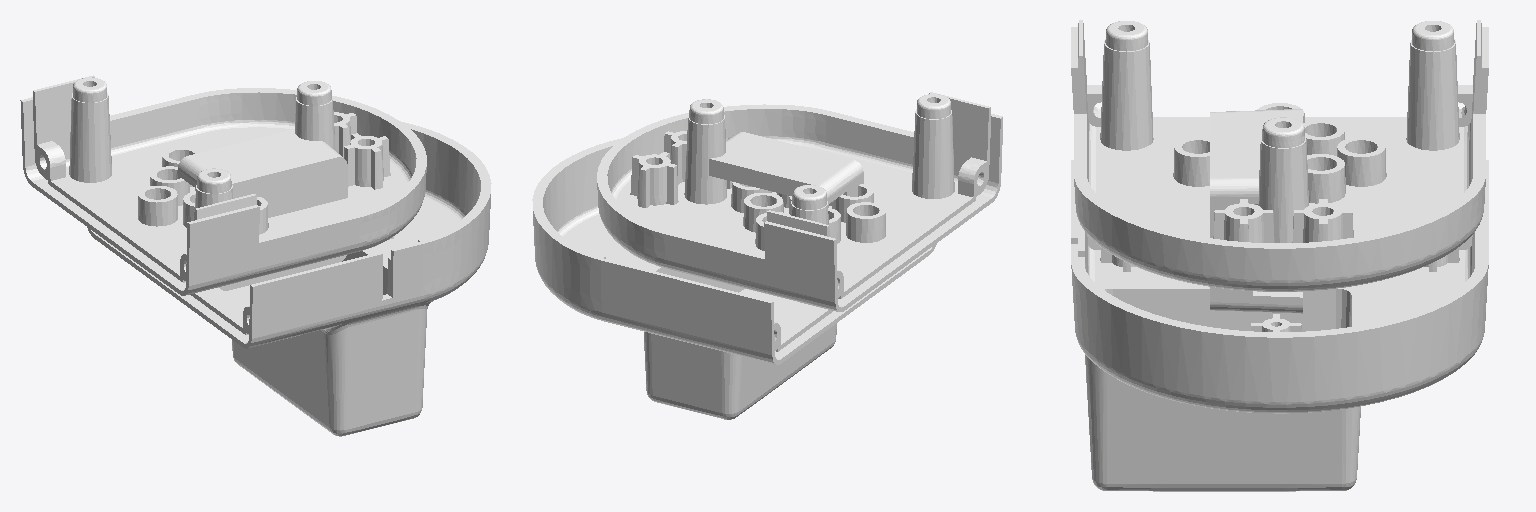
The robot description file, URDF, robot "mycobot":
<?xml version="1.0" ?>
<!-- =================================================================================== -->
<!-- |    This document was autogenerated by xacro from mycobot_with_gripper_parallel.urdf.xacro | -->
<!-- |    EDITING THIS FILE BY HAND IS NOT RECOMMENDED                                 | -->
<!-- =================================================================================== -->
<robot name="mycobot">
  <material name="aluminum">
    <color rgba="0.5 0.5 0.5 1"/>
  </material>
  <material name="plastic">
    <color rgba="0.1 0.1 0.1 1"/>
  </material>
  <!-- camera body, with origin at bottom screw mount -->
  <joint name="camera_joint" type="fixed">
    <origin rpy="0 0 3.141592653589793" xyz="0.68 0.05 0.38"/>
    <parent link="g_base"/>
    <child link="camera_bottom_screw_frame"/>
  </joint>
  <link name="camera_bottom_screw_frame"/>
  <joint name="camera_link_joint" type="fixed">
    <origin rpy="0 0 0" xyz="0.010600000000000002 0.0175 0.0125"/>
    <parent link="camera_bottom_screw_frame"/>
    <child link="camera_link"/>
  </joint>
  <link name="camera_link">
    <visual>
      <!-- the mesh origin is at front plate in between the two infrared camera axes -->
      <origin rpy="1.5707963267948966 0 1.5707963267948966" xyz="0.0043 -0.0175 0"/>
      <geometry>
        <mesh filename="package://realsense2_description/meshes/d435.dae"/>
      </geometry>
    </visual>
    <collision>
      <origin rpy="0 0 0" xyz="0 -0.0175 0"/>
      <geometry>
        <box size="0.02505 0.09 0.025"/>
      </geometry>
    </collision>
    <inertial>
      <!-- The following are not reliable values, and should not be used for modeling -->
      <mass value="0.072"/>
      <origin xyz="0 0 0"/>
      <inertia ixx="0.003881243" ixy="0.0" ixz="0.0" iyy="0.000498940" iyz="0.0" izz="0.003879257"/>
    </inertial>
  </link>
  <link name="g_base">
    <visual>
      <geometry>
        <mesh filename="package://mycobot_description/urdf/mycobot/G_base.dae"/>
      </geometry>
      <origin rpy="0 0 1.5708" xyz="0.0 0 -0.027"/>
    </visual>
    <collision>
      <geometry>
        <mesh filename="package://mycobot_description/urdf/mycobot/G_base.dae"/>
      </geometry>
      <origin rpy="0 0 1.5708" xyz="0.0 0 -0.027"/>
    </collision>
  </link>
  <link name="link1">
    <inertial>
      <origin rpy="0 0 0" xyz="0 0 0.035"/>
      <mass value="10.0"/>
      <inertia ixx="0.010333333333333335" ixy="0" ixz="0" iyy="0.010333333333333335" iyz="0" izz="0.0125"/>
    </inertial>
    <visual>
      <geometry>
        <mesh filename="package://mycobot_description/urdf/mycobot/mesh/link1.dae"/>
      </geometry>
      <origin rpy=" 0 0 -1.5707963267948966" xyz="0.0 0 0 "/>
    </visual>
    <collision>
      <geometry>
        <mesh filename="package://mycobot_description/urdf/mycobot/mesh/link1.dae"/>
      </geometry>
      <origin rpy=" 0 0 -1.5707963267948966" xyz="0.0 0 0 "/>
    </collision>
  </link>
  <link name="link2">
    <inertial>
      <origin rpy="0 0 0" xyz="0 0 0.060"/>
      <mass value="0.2"/>
      <inertia ixx="0.00023166666666666672" ixy="0" ixz="0" iyy="0.00023166666666666672" iyz="0" izz="0.00025000000000000006"/>
    </inertial>
    <visual>
      <geometry>
        <mesh filename="package://mycobot_description/urdf/mycobot/mesh/link2.dae"/>
      </geometry>
      <origin rpy=" 0 0 -1.5707963267948966" xyz="0.0 0 -0.06096 "/>
    </visual>
    <collision>
      <geometry>
        <mesh filename="package://mycobot_description/urdf/mycobot/mesh/link2.dae"/>
      </geometry>
      <origin rpy=" 0 0 -1.5707963267948966" xyz="0.0 0 -0.06096 "/>
    </collision>
  </link>
  <link name="link3">
    <inertial>
      <origin rpy="0 0 0" xyz="0.01 0 0.06"/>
      <mass value="0.4"/>
      <inertia ixx="0.0010508333333333335" ixy="0" ixz="0" iyy="0.0010508333333333335" iyz="0" izz="0.0005000000000000001"/>
    </inertial>
    <visual>
      <geometry>
        <mesh filename="package://mycobot_description/urdf/mycobot/mesh/link3.dae"/>
      </geometry>
      <origin rpy=" 0 -1.5707963267948966 0" xyz="0.0 0 0.03256 "/>
    </visual>
    <collision>
      <geometry>
        <mesh filename="package://mycobot_description/urdf/mycobot/mesh/link3.dae"/>
      </geometry>
      <origin rpy=" 0 -1.5707963267948966 0" xyz="0.0 0 0.03256 "/>
    </collision>
  </link>
  <link name="link4">
    <inertial>
      <origin rpy="0 0 0" xyz="-0.01 0 0.05"/>
      <mass value="0.4"/>
      <inertia ixx="0.0010508333333333335" ixy="0" ixz="0" iyy="0.0010508333333333335" iyz="0" izz="0.0005000000000000001"/>
    </inertial>
    <visual>
      <geometry>
        <!--- 0.0 0 -0.04 -->
        <mesh filename="package://mycobot_description/urdf/mycobot/mesh/link4.dae"/>
      </geometry>
      <origin rpy=" 0 -1.5707963267948966 0" xyz="0.0 0 0.03056 "/>
    </visual>
    <collision>
      <geometry>
        <!--- 0.0 0 -0.04 -->
        <mesh filename="package://mycobot_description/urdf/mycobot/mesh/link4.dae"/>
      </geometry>
      <origin rpy=" 0 -1.5707963267948966 0" xyz="0.0 0 0.03056 "/>
    </collision>
  </link>
  <link name="link5">
    <inertial>
      <origin rpy="0 0 0" xyz="0 0 0.05"/>
      <mass value="0.2"/>
      <inertia ixx="0.00016666666666666672" ixy="0" ixz="0" iyy="0.00016666666666666672" iyz="0" izz="0.00025000000000000006"/>
    </inertial>
    <visual>
      <geometry>
        <!--- 0.0 0 -0.04 -->
        <mesh filename="package://mycobot_description/urdf/mycobot/mesh/link5.dae"/>
      </geometry>
      <origin rpy=" -1.5707963267948966 0 0" xyz="0.0 0 -0.03356 "/>
    </visual>
    <collision>
      <geometry>
        <!--- 0.0 0 -0.04 -->
        <mesh filename="package://mycobot_description/urdf/mycobot/mesh/link5.dae"/>
      </geometry>
      <origin rpy=" -1.5707963267948966 0 0" xyz="0.0 0 -0.03356 "/>
    </collision>
  </link>
  <link name="link6">
    <inertial>
      <origin rpy="0 0 0" xyz="0 0 0.037"/>
      <mass value="0.5"/>
      <inertia ixx="0.0004625000000000001" ixy="0" ixz="0" iyy="0.0004625000000000001" iyz="0" izz="0.0006250000000000001"/>
    </inertial>
    <visual>
      <geometry>
        <!--- 0.0 0 -0.04 -->
        <mesh filename="package://mycobot_description/urdf/mycobot/mesh/link6.dae"/>
      </geometry>
      <origin rpy=" 0 0 0" xyz="0 0.00 -0.038 "/>
    </visual>
    <collision>
      <geometry>
        <!--- 0.0 0 -0.04 -->
        <mesh filename="package://mycobot_description/urdf/mycobot/mesh/link6.dae"/>
      </geometry>
      <origin rpy=" 0 0 0" xyz="0 0.00 -0.038 "/>
    </collision>
  </link>
  <link name="link7">
    <inertial>
      <origin rpy="1.570795 0 0" xyz="0 0.0025 0"/>
      <mass value="0.1"/>
      <inertia ixx="1.0208333333333334e-05" ixy="0" ixz="0" iyy="1.0208333333333334e-05" iyz="0" izz="2e-05"/>
    </inertial>
    <visual>
      <geometry>
        <!--- 0.0 0 -0.04 -->
        <mesh filename="package://mycobot_description/urdf/mycobot/mesh/link7.dae"/>
      </geometry>
      <origin rpy=" 0 0 0" xyz="0.0 0 -0.012 "/>
    </visual>
    <collision>
      <geometry>
        <!--- 0.0 0 -0.04 -->
        <mesh filename="package://mycobot_description/urdf/mycobot/mesh/link7.dae"/>
      </geometry>
      <origin rpy=" 0 0 0" xyz="0.0 0 -0.012 "/>
    </collision>
  </link>
  <joint name="joint1" type="revolute">
    <axis xyz="0 0 1"/>
    <limit effort="10.0" lower="-3.141592653589793" upper="3.141592653589793" velocity="1.0"/>
    <parent link="link1"/>
    <child link="link2"/>
    <origin rpy="0 0 0" xyz="0 0 0.13156"/>
    <dynamics damping="1.0e-6" friction="2.0e-1"/>
  </joint>
  <joint name="joint2" type="revolute">
    <axis xyz="0 0 1"/>
    <limit effort="10.0" lower="-3.141592653589793" upper="3.141592653589793" velocity="1.0"/>
    <parent link="link2"/>
    <child link="link3"/>
    <origin rpy="0 1.5707963267948966 -1.5707963267948966" xyz="0 0  0"/>
    <dynamics damping="1.0e-6" friction="2.0e-1"/>
  </joint>
  <joint name="joint3" type="revolute">
    <axis xyz=" 0 0 1"/>
    <limit effort="10.0" lower="-3.141592653589793" upper="3.141592653589793" velocity="1.0"/>
    <parent link="link3"/>
    <child link="link4"/>
    <origin rpy="0 0 0" xyz="-0.1104 0 0   "/>
    <dynamics damping="1.0e-6" friction="2.0e-1"/>
  </joint>
  <joint name="joint4" type="revolute">
    <axis xyz=" 0 0 1"/>
    <limit effort="10.0" lower="-3.141592653589793" upper="3.141592653589793" velocity="1.0"/>
    <parent link="link4"/>
    <child link="link5"/>
    <origin rpy="0 0 -1.5707963267948966" xyz="-0.096 0 0.06462"/>
    <dynamics damping="1.0e-6" friction="2.0e-1"/>
  </joint>
  <joint name="joint5" type="revolute">
    <axis xyz="0 0 1"/>
    <limit effort="10.0" lower="-3.141592653589793" upper="3.141592653589793" velocity="1.0"/>
    <parent link="link5"/>
    <child link="link6"/>
    <origin rpy="1.5707963267948966 -1.5707963267948966 0" xyz="0 -0.07318 0"/>
    <dynamics damping="1.0e-6" friction="2.0e-1"/>
  </joint>
  <joint name="joint6" type="revolute">
    <axis xyz="0 0 1"/>
    <limit effort="10.0" lower="-3.141592653589793" upper="3.141592653589793" velocity="1.0"/>
    <parent link="link6"/>
    <child link="link7"/>
    <origin rpy="-1.5707963267948966 0 0" xyz="0 0.0456 0"/>
    <dynamics damping="1.0e-6" friction="2.0e-1"/>
  </joint>
  <link name="gripper_base">
    <visual>
      <geometry>
        <!--- 0.0 0 -0.04 -->
        <mesh filename="package://mycobot_description/urdf/mycobot/gripper_base.dae"/>
      </geometry>
      <origin rpy=" 0 0 0" xyz="0.0 0 -0.012 "/>
    </visual>
    <collision>
      <geometry>
        <!--- 0.0 0 -0.04 -->
        <mesh filename="package://mycobot_description/urdf/mycobot/gripper_base.dae"/>
      </geometry>
      <origin rpy=" 0 0 0" xyz="0.0 0 -0.012 "/>
    </collision>
  </link>
  <link name="gripper_left1">
    <visual>
      <geometry>
        <!--- 0.0 0 -0.04 -->
        <mesh filename="package://mycobot_description/urdf/mycobot/gripper_left1.dae"/>
      </geometry>
      <origin rpy=" 0 0 0" xyz="0.039 -0.0133 -0.012 "/>
      <!-- <origin xyz = "0.0 0 -0.012 " rpy = " 0 0 0"/> -->
    </visual>
    <collision>
      <geometry>
        <mesh filename="package://mycobot_description/urdf/mycobot/gripper_left1.dae"/>
      </geometry>
      <origin rpy=" 0 0 0" xyz="-0.039 -0.0133 -0.012 "/>
    </collision>
  </link>
  <link name="gripper_left2">
    <visual>
      <geometry>
        <mesh filename="package://mycobot_description/urdf/mycobot/gripper_left2.dae"/>
      </geometry>
      <origin rpy=" 0 0 0" xyz="0.005 -0.0195 -0.012 "/>
    </visual>
    <collision>
      <geometry>
        <mesh filename="package://mycobot_description/urdf/mycobot/gripper_left2.dae"/>
      </geometry>
      <origin rpy=" 0 0 0" xyz="-0.005 -0.0195 -0.012 "/>
    </collision>
  </link>
  <link name="gripper_left3">
    <visual>
      <geometry>
        <mesh filename="package://mycobot_description/urdf/mycobot/gripper_left3.dae"/>
      </geometry>
      <origin rpy=" 0 0 0" xyz="0.012 0.0025 -0.012 "/>
      <!-- <origin xyz = "0.0 0 0 " rpy = " 0 0 0"/> -->
    </visual>
    <collision>
      <geometry>
        <mesh filename="package://mycobot_description/urdf/mycobot/gripper_left3.dae"/>
      </geometry>
      <origin rpy=" 0 0 0" xyz="0.0 0 -0.012 "/>
    </collision>
  </link>
  <link name="gripper_right1">
    <visual>
      <geometry>
        <mesh filename="package://mycobot_description/urdf/mycobot/gripper_right1.dae"/>
      </geometry>
      <origin rpy=" 0 0 0" xyz="-0.039 -0.0133 -0.012 "/>
    </visual>
    <collision>
      <geometry>
        <mesh filename="package://mycobot_description/urdf/mycobot/gripper_right1.dae"/>
      </geometry>
      <origin rpy=" 0 0 0" xyz="-0.039 -0.0133 -0.012 "/>
    </collision>
  </link>
  <link name="gripper_right2">
    <visual>
      <geometry>
        <mesh filename="package://mycobot_description/urdf/mycobot/gripper_right2.dae"/>
      </geometry>
      <origin rpy=" 0 0 0" xyz="-0.005 -0.0195 -0.012 "/>
    </visual>
    <collision>
      <geometry>
        <mesh filename="package://mycobot_description/urdf/mycobot/gripper_right2.dae"/>
      </geometry>
      <origin rpy=" 0 0 0" xyz="-0.005 -0.0195 -0.012 "/>
    </collision>
  </link>
  <link name="gripper_right3">
    <visual>
      <geometry>
        <mesh filename="package://mycobot_description/urdf/mycobot/gripper_right3.dae"/>
      </geometry>
      <origin rpy=" 0 0 0" xyz="-0.012 0.0025 -0.012 "/>
    </visual>
    <collision>
      <geometry>
        <mesh filename="package://mycobot_description/urdf/mycobot/gripper_right3.dae"/>
      </geometry>
      <origin rpy=" 0 0 0" xyz="-0.012 0.0025 -0.012"/>
    </collision>
  </link>
  <joint name="g_base_to_link1" type="fixed">
    <axis xyz="0 0 0"/>
    <limit effort="1000.0" lower="-3.14" upper="3.14159" velocity="0"/>
    <parent link="g_base"/>
    <child link="link1"/>
    <origin rpy="0 0 0" xyz="0 0 0"/>
  </joint>
  <joint name="link7_to_gripper_base" type="fixed">
    <!-- <axis xyz="0 0 1"/>
    <limit effort = "1000.0" lower = "-3.14" upper = "3.14159" velocity = "0"/> -->
    <parent link="link7"/>
    <child link="gripper_base"/>
    <!-- <origin xyz= "0 0.0 0" rpy = "-1.5708 0 0"/>   -->
    <origin rpy="1.579 0 0" xyz="0 0 0.034"/>
  </joint>
  <joint name="gripper_controller" type="revolute">
    <axis xyz="0 0 1"/>
    <limit effort="1000.0" lower="-0.7" upper="0.15" velocity="0"/>
    <parent link="gripper_base"/>
    <child link="gripper_left3"/>
    <origin rpy="0 0 0" xyz="-0.012 0.005 0"/>
  </joint>
  <joint name="gripper_base_to_gripper_left2" type="revolute">
    <axis xyz="0 0 1"/>
    <limit effort="1000.0" lower="-0.8" upper="0.5" velocity="0"/>
    <parent link="gripper_base"/>
    <child link="gripper_left2"/>
    <origin rpy="0 0 0" xyz="-0.005 0.027 0"/>
    <mimic joint="gripper_controller" multiplier="1.0" offset="0"/>
  </joint>
  <joint name="gripper_left3_to_gripper_left1" type="revolute">
    <axis xyz="0 0 1"/>
    <limit effort="1000.0" lower="-0.5" upper="0.5" velocity="0"/>
    <parent link="gripper_left3"/>
    <child link="gripper_left1"/>
    <origin rpy="0 0 0" xyz="-0.027 0.016 0"/>
    <mimic joint="gripper_controller" multiplier="-1.0" offset="0"/>
  </joint>
  <joint name="gripper_base_to_gripper_right3" type="revolute">
    <axis xyz="0 0 1"/>
    <limit effort="1000.0" lower="-0.15" upper="0.7" velocity="0"/>
    <parent link="gripper_base"/>
    <child link="gripper_right3"/>
    <origin rpy="0 0 0" xyz="0.012 0.005 0"/>
    <mimic joint="gripper_controller" multiplier="-1.0" offset="0"/>
  </joint>
  <joint name="gripper_base_to_gripper_right2" type="revolute">
    <axis xyz="0 0 1"/>
    <limit effort="1000.0" lower="-0.5" upper="0.8" velocity="0"/>
    <parent link="gripper_base"/>
    <child link="gripper_right2"/>
    <origin rpy="0 0 0" xyz="0.005 0.027 0"/>
    <mimic joint="gripper_controller" multiplier="-1.0" offset="0"/>
  </joint>
  <joint name="gripper_right3_to_gripper_right1" type="revolute">
    <axis xyz="0 0 1"/>
    <limit effort="1000.0" lower="-0.5" upper="0.5" velocity="0"/>
    <parent link="gripper_right3"/>
    <child link="gripper_right1"/>
    <origin rpy="0 0 0" xyz="0.027 0.016 0"/>
    <mimic joint="gripper_controller" multiplier="1.0" offset="0"/>
  </joint>
  <transmission name="joint1_trans">
    <provideFeedback>true</provideFeedback>
    <implicitSpringDamper>0</implicitSpringDamper>
    <motorTorqueConstant>0.418</motorTorqueConstant>
    <type>transmission_interface/SimpleTransmission</type>
    <joint name="joint1">
      <hardwareInterface>hardware_interface/PositionJointInterface</hardwareInterface>
    </joint>
    <actuator name="joint1_motor">
      <hardwareInterface>hardware_interface/PositionJointInterface</hardwareInterface>
      <mechanicalReduction>1</mechanicalReduction>
    </actuator>
  </transmission>
  <transmission name="joint2_trans">
    <provideFeedback>true</provideFeedback>
    <implicitSpringDamper>0</implicitSpringDamper>
    <motorTorqueConstant>0.418</motorTorqueConstant>
    <type>transmission_interface/SimpleTransmission</type>
    <joint name="joint2">
      <hardwareInterface>hardware_interface/PositionJointInterface</hardwareInterface>
    </joint>
    <actuator name="joint2_motor">
      <hardwareInterface>hardware_interface/PositionJointInterface</hardwareInterface>
      <mechanicalReduction>1</mechanicalReduction>
    </actuator>
  </transmission>
  <transmission name="joint3_trans">
    <provideFeedback>true</provideFeedback>
    <implicitSpringDamper>0</implicitSpringDamper>
    <motorTorqueConstant>0.418</motorTorqueConstant>
    <type>transmission_interface/SimpleTransmission</type>
    <joint name="joint3">
      <hardwareInterface>hardware_interface/PositionJointInterface</hardwareInterface>
    </joint>
    <actuator name="joint3_motor">
      <hardwareInterface>hardware_interface/PositionJointInterface</hardwareInterface>
      <mechanicalReduction>1</mechanicalReduction>
    </actuator>
  </transmission>
  <transmission name="joint4_trans">
    <provideFeedback>true</provideFeedback>
    <implicitSpringDamper>0</implicitSpringDamper>
    <motorTorqueConstant>0.418</motorTorqueConstant>
    <type>transmission_interface/SimpleTransmission</type>
    <joint name="joint4">
      <hardwareInterface>hardware_interface/PositionJointInterface</hardwareInterface>
    </joint>
    <actuator name="joint4_motor">
      <hardwareInterface>hardware_interface/PositionJointInterface</hardwareInterface>
      <mechanicalReduction>1</mechanicalReduction>
    </actuator>
  </transmission>
  <transmission name="joint5_trans">
    <provideFeedback>true</provideFeedback>
    <implicitSpringDamper>0</implicitSpringDamper>
    <motorTorqueConstant>0.418</motorTorqueConstant>
    <type>transmission_interface/SimpleTransmission</type>
    <joint name="joint5">
      <hardwareInterface>hardware_interface/PositionJointInterface</hardwareInterface>
    </joint>
    <actuator name="joint5_motor">
      <hardwareInterface>hardware_interface/PositionJointInterface</hardwareInterface>
      <mechanicalReduction>1</mechanicalReduction>
    </actuator>
  </transmission>
  <transmission name="joint6_trans">
    <provideFeedback>true</provideFeedback>
    <implicitSpringDamper>0</implicitSpringDamper>
    <motorTorqueConstant>0.418</motorTorqueConstant>
    <type>transmission_interface/SimpleTransmission</type>
    <joint name="joint6">
      <hardwareInterface>hardware_interface/PositionJointInterface</hardwareInterface>
    </joint>
    <actuator name="joint6_motor">
      <hardwareInterface>hardware_interface/PositionJointInterface</hardwareInterface>
      <mechanicalReduction>1</mechanicalReduction>
    </actuator>
  </transmission>
  <transmission name="link7_to_gripper_base_trans">
    <provideFeedback>true</provideFeedback>
    <type>transmission_interface/SimpleTransmission</type>
    <joint name="link7_to_gripper_base">
      <hardwareInterface>hardware_interface/PositionJointInterface</hardwareInterface>
    </joint>
    <actuator name="link7_to_gripper_base_actuator">
      <hardwareInterface>hardware_interface/PositionJointInterface</hardwareInterface>
      <mechanicalReduction>1</mechanicalReduction>
    </actuator>
  </transmission>
  <transmission name="gripper_controller_trans">
    <provideFeedback>true</provideFeedback>
    <type>transmission_interface/SimpleTransmission</type>
    <joint name="gripper_controller">
      <hardwareInterface>hardware_interface/PositionJointInterface</hardwareInterface>
    </joint>
    <actuator name="gripper_controller_actuator">
      <hardwareInterface>hardware_interface/PositionJointInterface</hardwareInterface>
      <mechanicalReduction>1</mechanicalReduction>
    </actuator>
  </transmission>
  <transmission name="gripper_base_to_gripper_left2_trans">
    <provideFeedback>true</provideFeedback>
    <type>transmission_interface/SimpleTransmission</type>
    <joint name="gripper_base_to_gripper_left2">
      <hardwareInterface>hardware_interface/PositionJointInterface</hardwareInterface>
    </joint>
    <actuator name="gripper_base_to_gripper_left2_actuator">
      <hardwareInterface>hardware_interface/PositionJointInterface</hardwareInterface>
      <mechanicalReduction>1</mechanicalReduction>
    </actuator>
  </transmission>
  <!-- and so on for the remaining joints -->
  <transmission name="gripper_left3_to_gripper_left1_trans">
    <provideFeedback>true</provideFeedback>
    <type>transmission_interface/SimpleTransmission</type>
    <joint name="gripper_left3_to_gripper_left1">
      <hardwareInterface>hardware_interface/PositionJointInterface</hardwareInterface>
    </joint>
    <actuator name="gripper_left3_to_gripper_left1_actuator">
      <hardwareInterface>hardware_interface/PositionJointInterface</hardwareInterface>
      <mechanicalReduction>1</mechanicalReduction>
    </actuator>
  </transmission>
  <transmission name="gripper_base_to_gripper_right3_trans">
    <provideFeedback>true</provideFeedback>
    <type>transmission_interface/SimpleTransmission</type>
    <joint name="gripper_base_to_gripper_right3">
      <hardwareInterface>hardware_interface/PositionJointInterface</hardwareInterface>
    </joint>
    <actuator name="gripper_base_to_gripper_right3_actuator">
      <hardwareInterface>hardware_interface/PositionJointInterface</hardwareInterface>
      <mechanicalReduction>1</mechanicalReduction>
    </actuator>
  </transmission>
  <transmission name="gripper_base_to_gripper_right2_trans">
    <provideFeedback>true</provideFeedback>
    <type>transmission_interface/SimpleTransmission</type>
    <joint name="gripper_base_to_gripper_right2">
      <hardwareInterface>hardware_interface/PositionJointInterface</hardwareInterface>
    </joint>
    <actuator name="gripper_base_to_gripper_right2_actuator">
      <hardwareInterface>hardware_interface/PositionJointInterface</hardwareInterface>
      <mechanicalReduction>1</mechanicalReduction>
    </actuator>
  </transmission>
  <transmission name="gripper_right3_to_gripper_right1_trans">
    <provideFeedback>true</provideFeedback>
    <type>transmission_interface/SimpleTransmission</type>
    <joint name="gripper_right3_to_gripper_right1">
      <hardwareInterface>hardware_interface/PositionJointInterface</hardwareInterface>
    </joint>
    <actuator name="gripper_right3_to_gripper_right1_actuator">
      <hardwareInterface>hardware_interface/PositionJointInterface</hardwareInterface>
      <mechanicalReduction>1</mechanicalReduction>
    </actuator>
  </transmission>
</robot>

--- Render facts (derived) ---
Views: 3 orthographic renders of the robot side by side, from view 1: azimuth 30°, elevation 25°; view 2: azimuth 150°, elevation 25°; view 3: azimuth 270°, elevation 25°.
Model mycobot with 17 links and 16 joints (12 revolute, 4 fixed), rooted at g_base, posed all joints at 0.
Links seen in each view (by area): view 1: gripper_left2; view 2: gripper_left2; view 3: gripper_left2.
Boxes of the visible links, x1,y1,x2,y2 form: gripper_left2: (20,75,491,436); gripper_left2: (532,92,1002,419); gripper_left2: (1071,20,1488,491).
Size in the robot's own frame: 0.0716 by 0.058 by 0.0538 metres.
Meshes: 16 distinct files referenced, 1 mesh visuals loaded (1 Collada DAE); not drawn: 15 (reference not matched to a file when rendering).